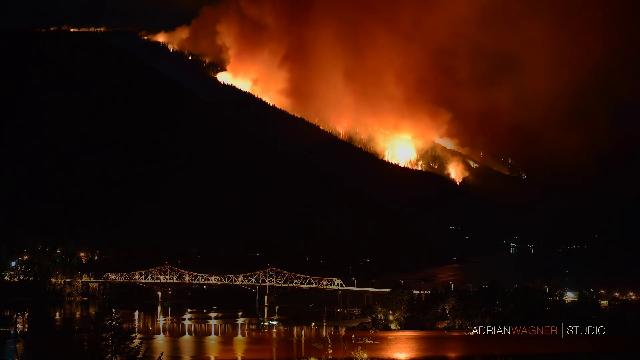fire: (385, 127, 426, 172), (214, 69, 256, 95), (444, 156, 467, 185)
smoke: (144, 0, 500, 146), (70, 25, 106, 32)
